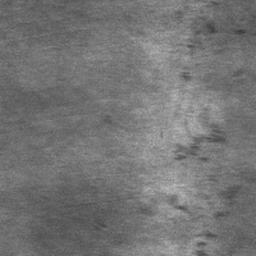Rolled in scale: (194, 124, 225, 143), (174, 144, 186, 161), (197, 242, 208, 256), (182, 67, 191, 81), (234, 29, 246, 36), (205, 232, 217, 239), (174, 205, 187, 211), (187, 42, 195, 50), (216, 212, 226, 218)
